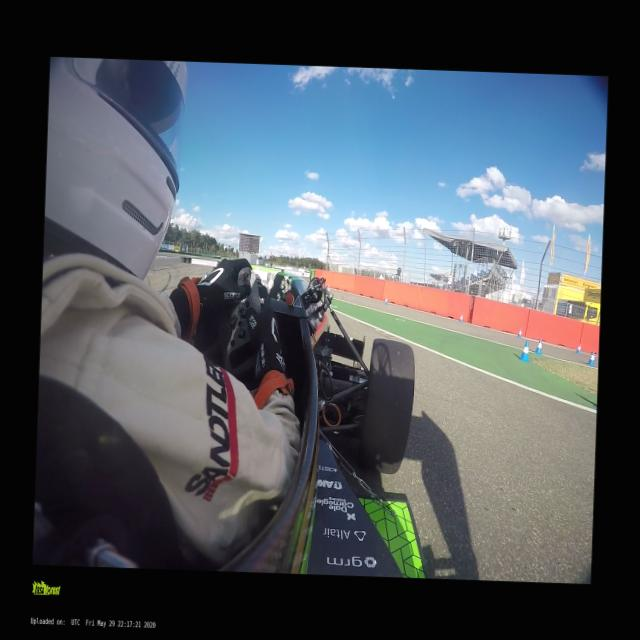blue_cone: (520, 340, 530, 361), (534, 338, 542, 354), (588, 350, 595, 366), (576, 344, 580, 354), (517, 328, 521, 338), (459, 314, 462, 322), (384, 296, 387, 304)
